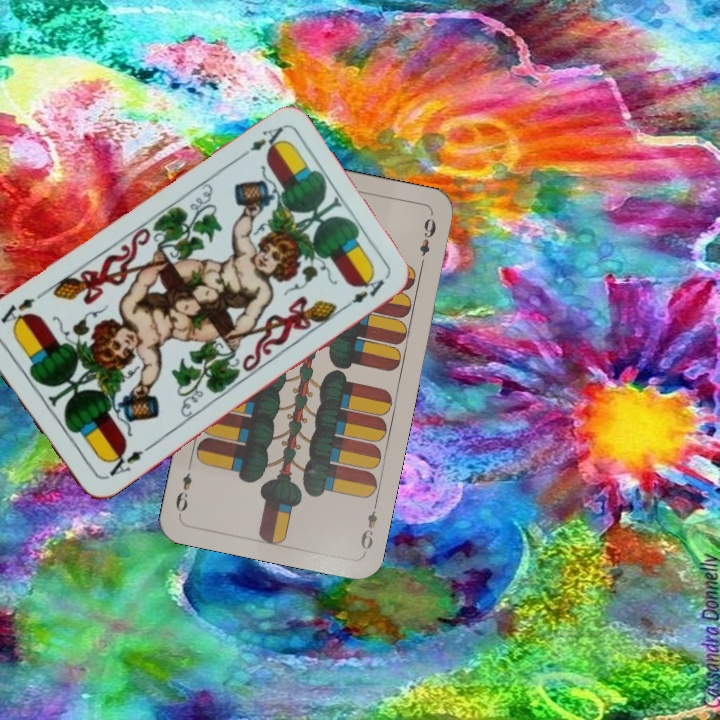E9: (356, 497, 380, 555)
EA: (234, 123, 288, 163), (101, 442, 153, 482)
